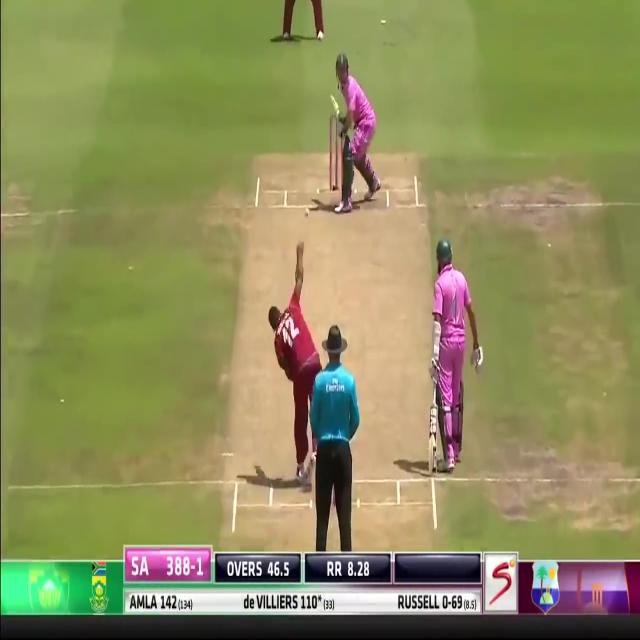Ball: (430, 236, 477, 472), (330, 53, 380, 210)
Fielder: (270, 243, 324, 486)
Umpire: (309, 328, 359, 546)
